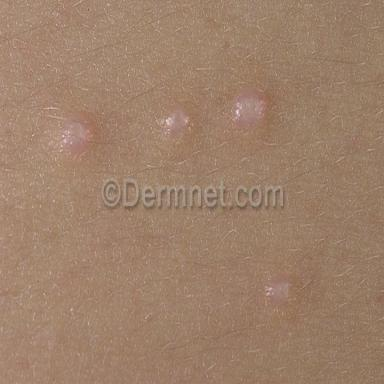Molluscum-Contagiosum: (61, 111, 96, 152), (234, 90, 269, 126), (264, 276, 291, 306), (166, 105, 190, 135)
